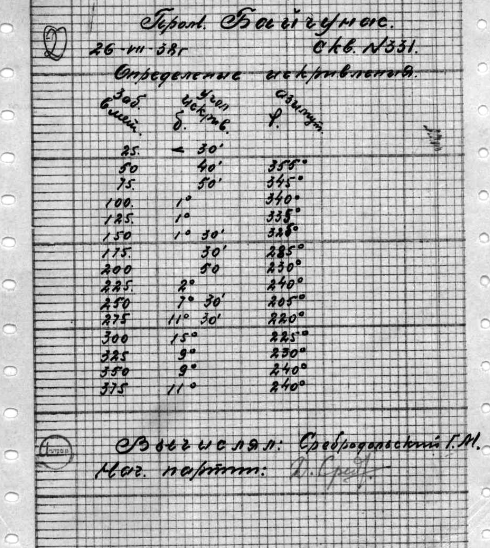Borderless: (72, 81, 337, 406)
